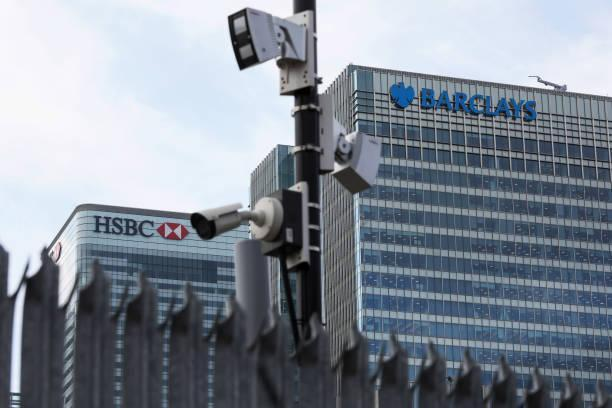camera: (181, 192, 281, 252)
